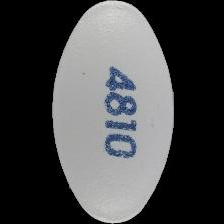69189-0418: (0, 0, 224, 224)
